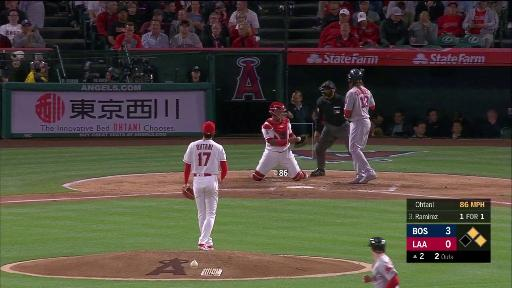pitcher: (180, 121, 230, 250)
